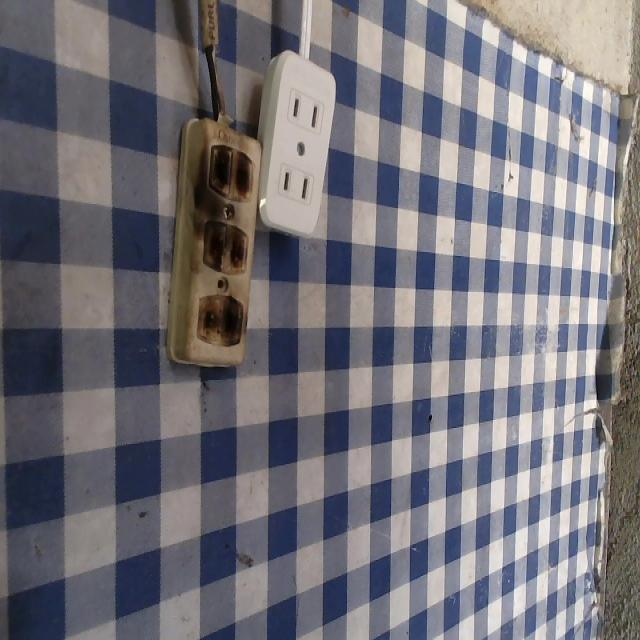-: (192, 288, 246, 347), (204, 140, 256, 201), (199, 215, 249, 277)
